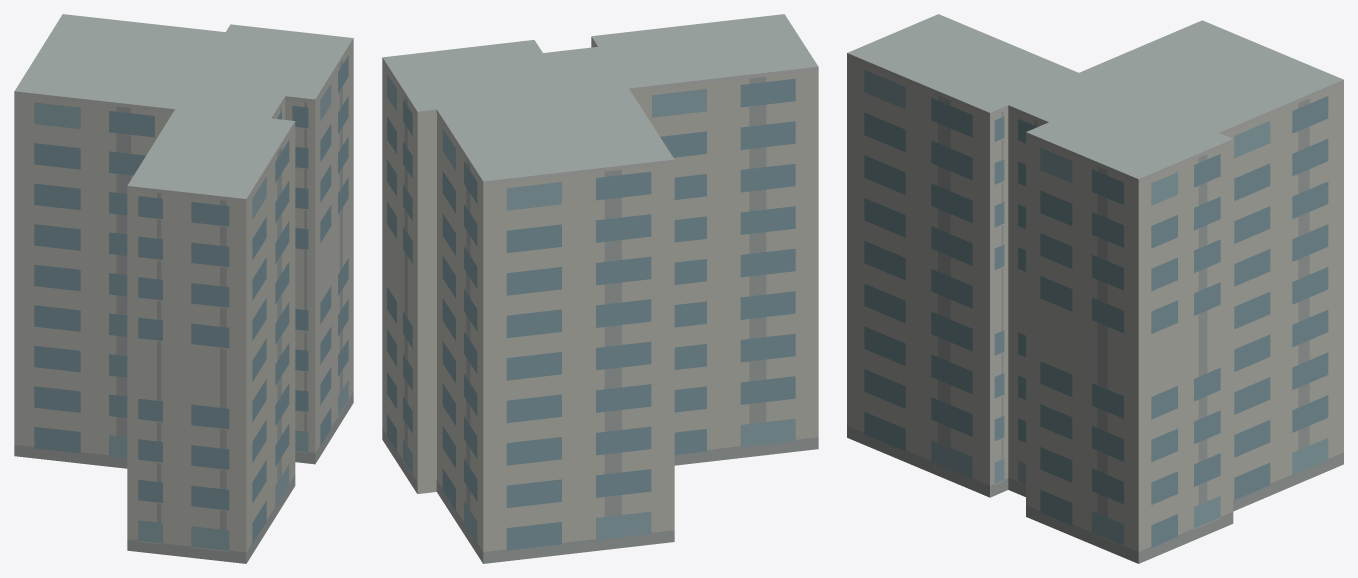
Rendered from residential-d760fac7-834e-495d-aee2-ff391266da0a.glb.
The picture shows the model from 3 angles, left to right: view 1: azimuth 30°, elevation 25°; view 2: azimuth 150°, elevation 25°; view 3: azimuth 270°, elevation 25°; orthographic projection. The views are drawn at different scales.
Visible parts, largest first — view 1: residential-d760fac7-834e-495d-aee2-ff391266da0a.tmp; view 2: residential-d760fac7-834e-495d-aee2-ff391266da0a.tmp; view 3: residential-d760fac7-834e-495d-aee2-ff391266da0a.tmp.
Boxes of the visible parts, x1,y1,x2,y2 form: residential-d760fac7-834e-495d-aee2-ff391266da0a.tmp: [14, 14, 353, 563]; residential-d760fac7-834e-495d-aee2-ff391266da0a.tmp: [382, 14, 818, 563]; residential-d760fac7-834e-495d-aee2-ff391266da0a.tmp: [847, 14, 1343, 563].
Size of the model in its own units: 21.19 by 23 by 26.93.
